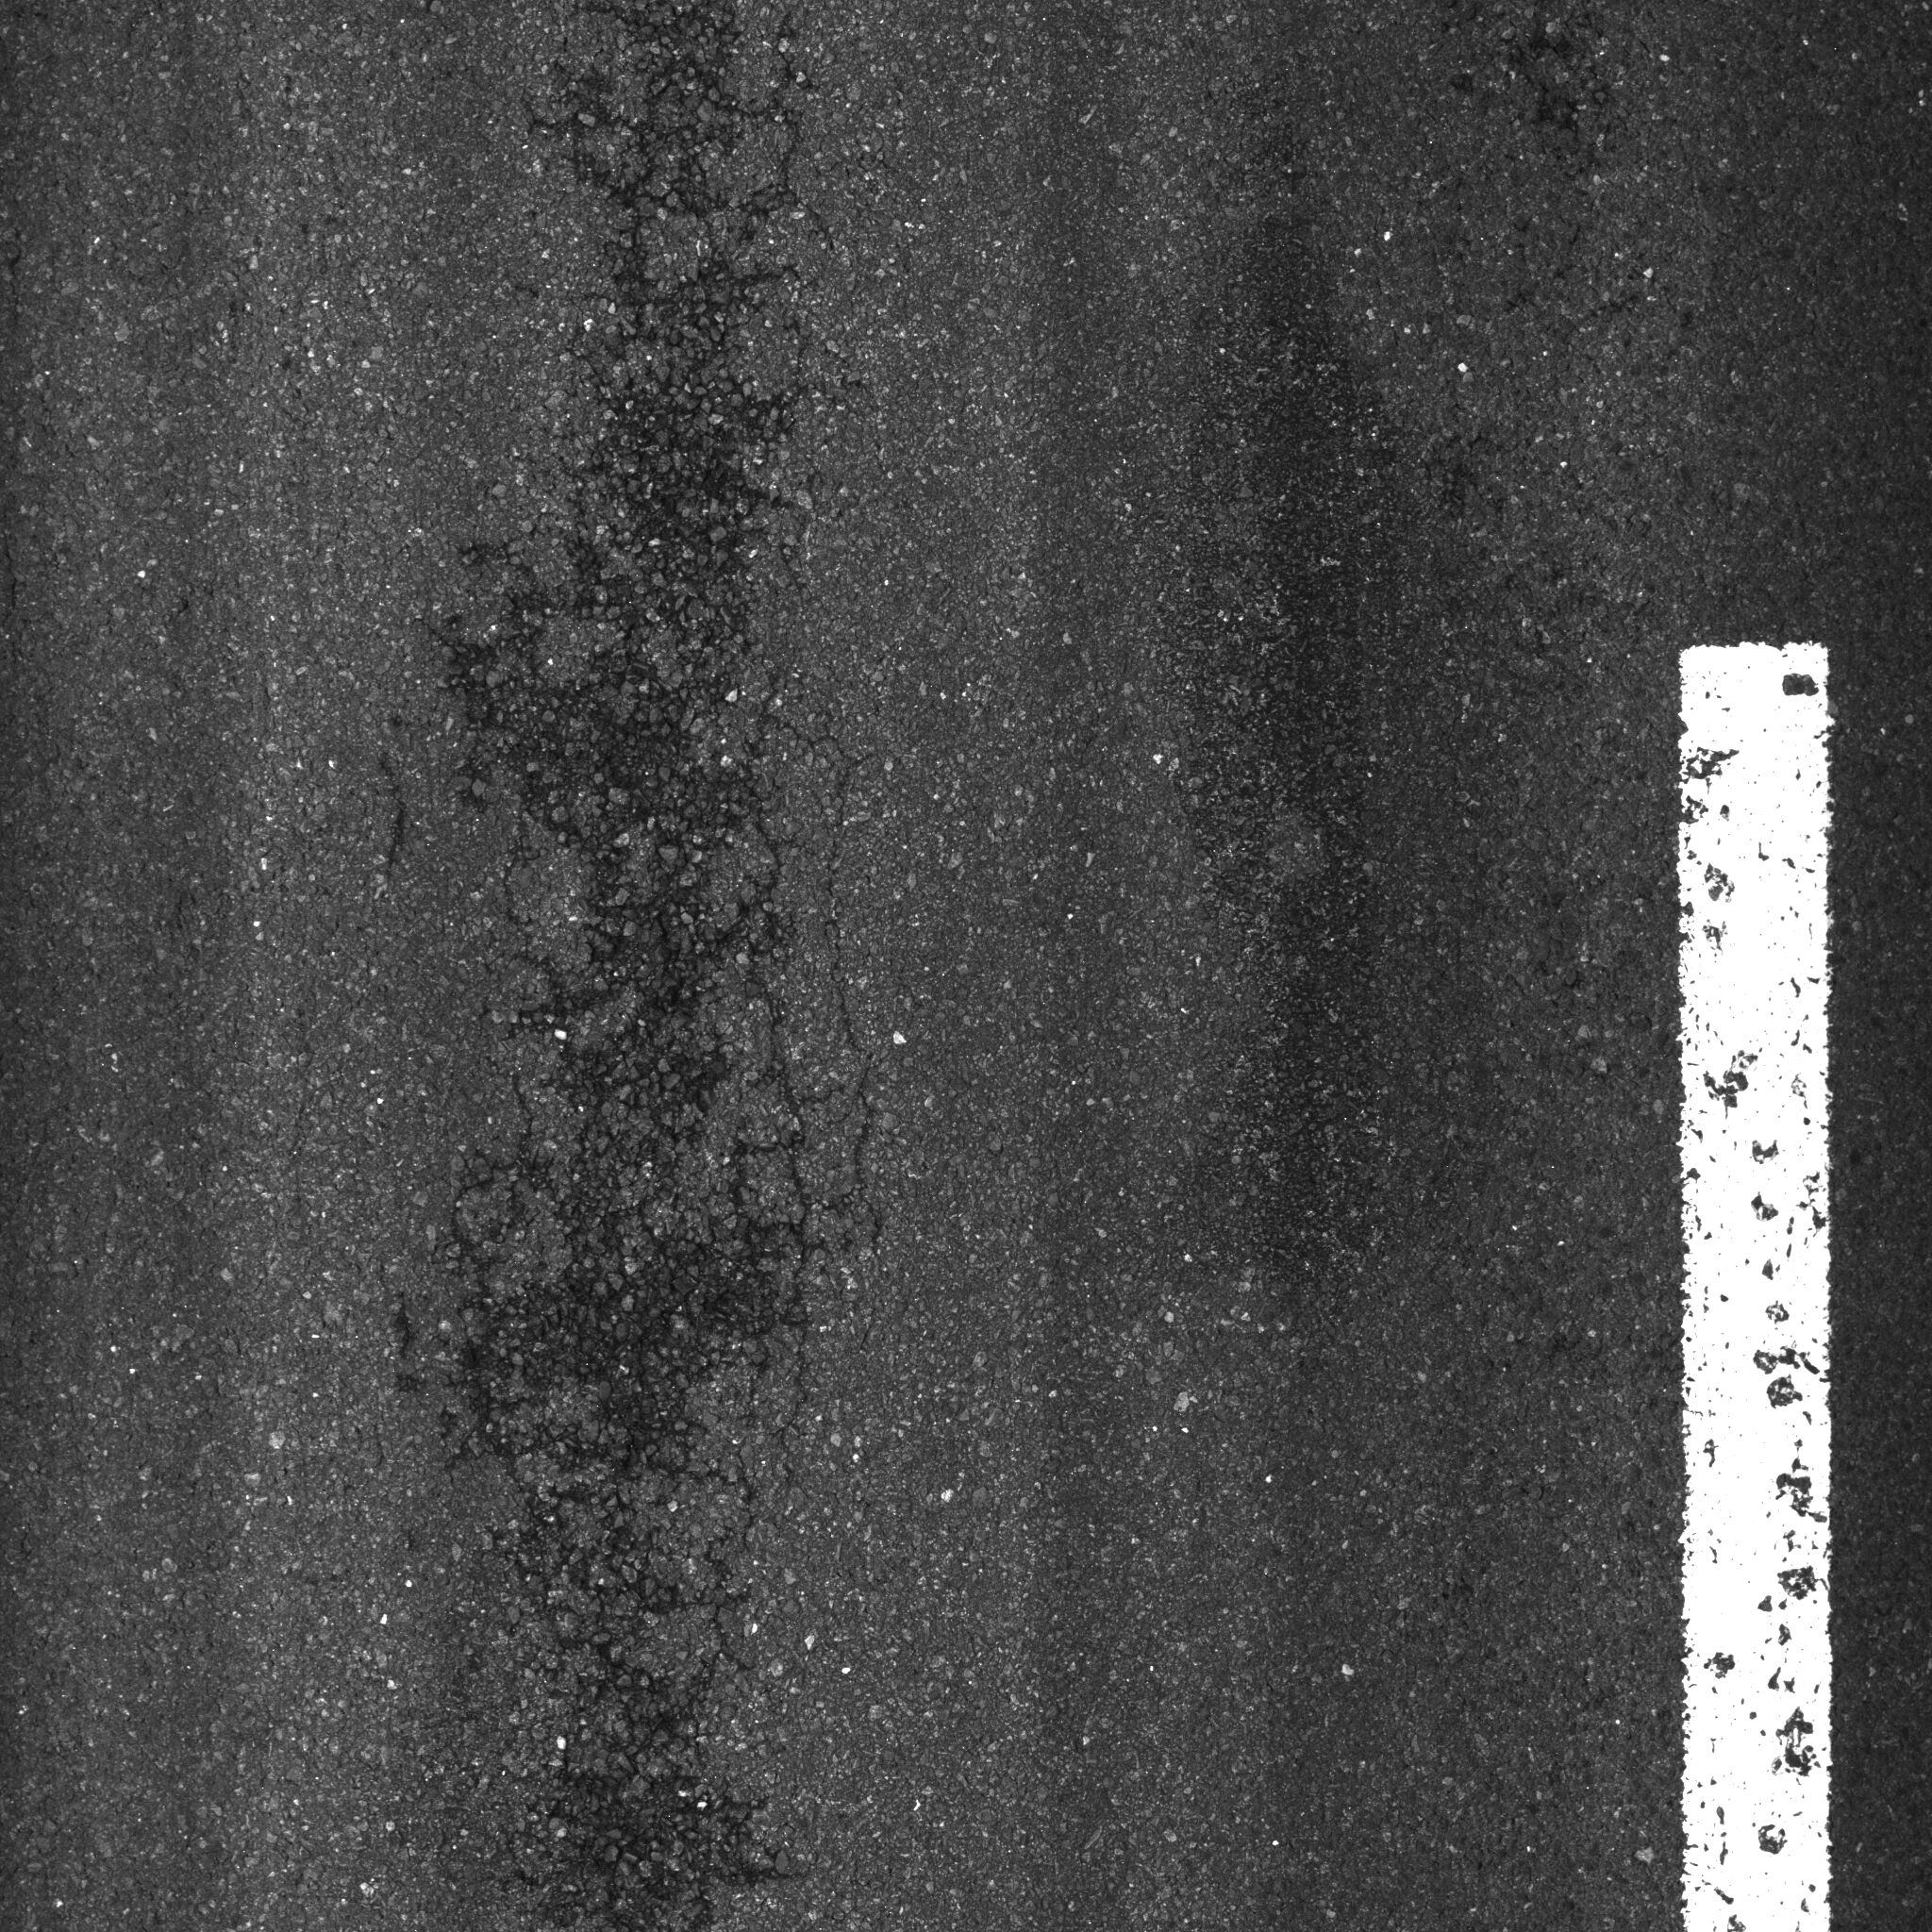alligator: (326, 4, 938, 1907)
